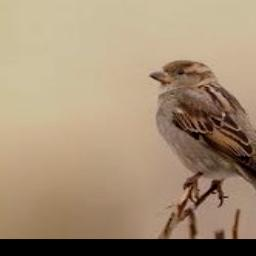Sparrow: (148, 61, 256, 229)
